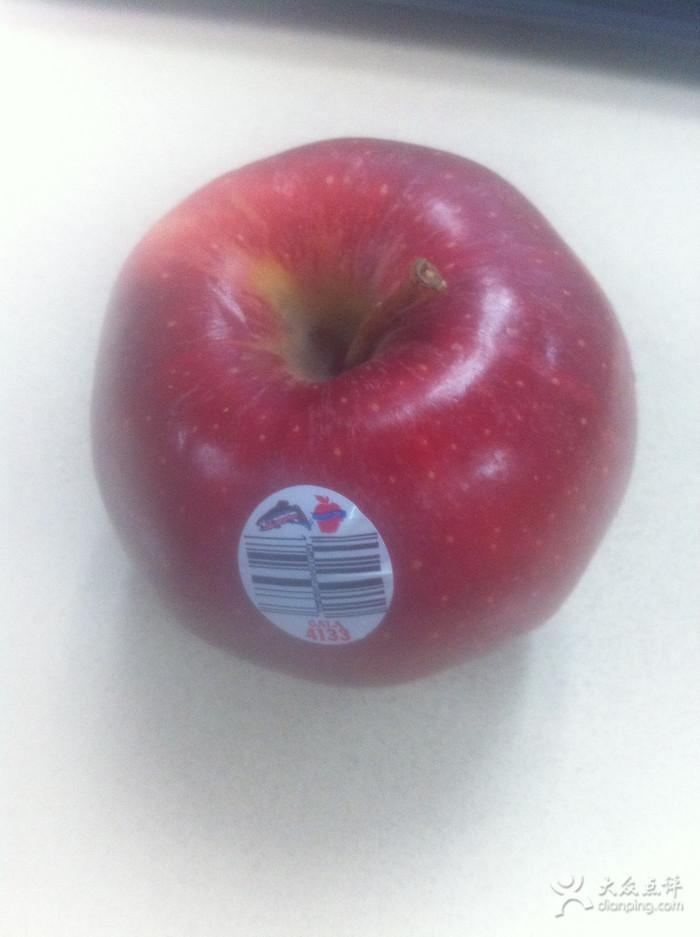apple: (91, 137, 635, 679)
